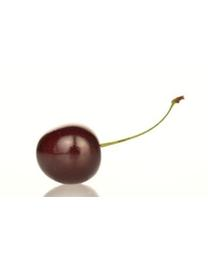cherry: (36, 126, 102, 185)
